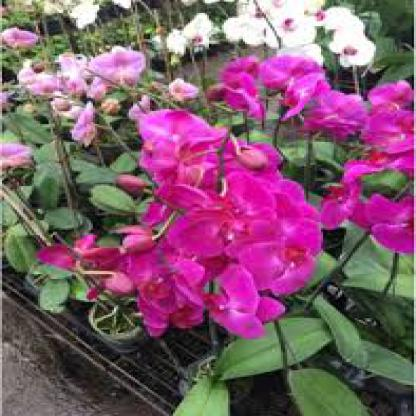ANGGREK: (12, 22, 402, 342)
